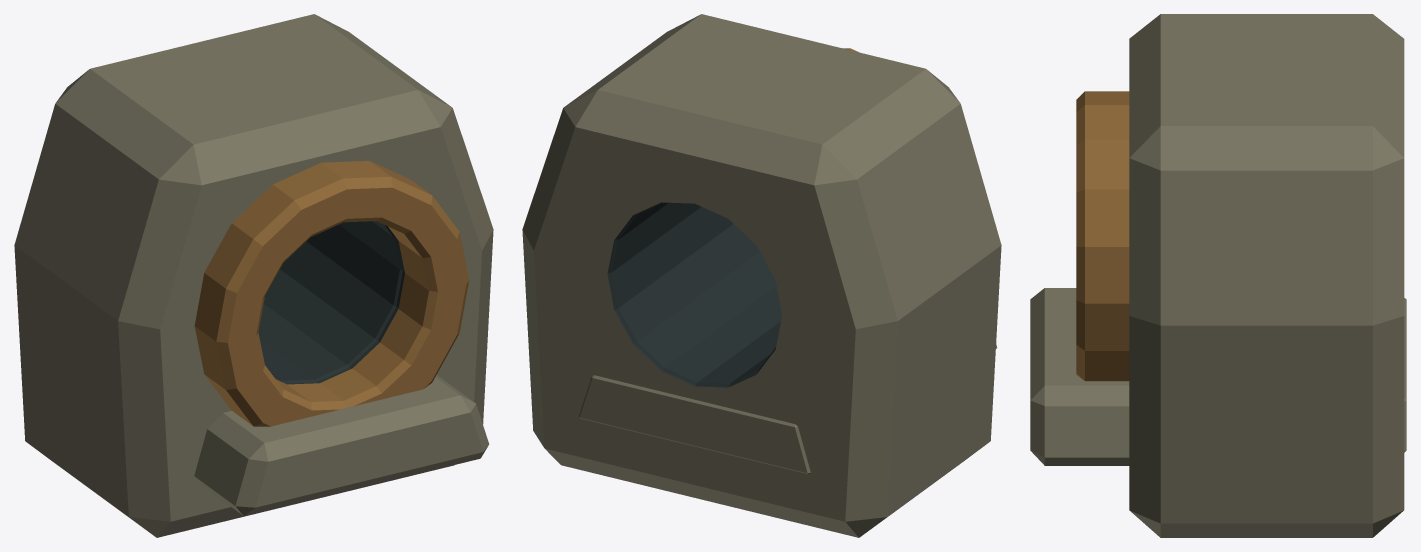
File: WATER_SPOUT.lo.glb
The picture shows the model from 3 angles, left to right: view 1: azimuth 30°, elevation 25°; view 2: azimuth 150°, elevation 25°; view 3: azimuth 270°, elevation 25°; orthographic projection. The views are drawn at different scales.
Visible parts, largest first — view 1: Body_Mesh; view 2: Body_Mesh; view 3: Body_Mesh.
Boxes of the visible parts, <box> form: Body_Mesh: <box>14,14,493,537</box>; Body_Mesh: <box>522,14,1001,537</box>; Body_Mesh: <box>1030,14,1406,537</box>.
Size of the model in its own units: 0.92 by 0.9 by 0.78.
